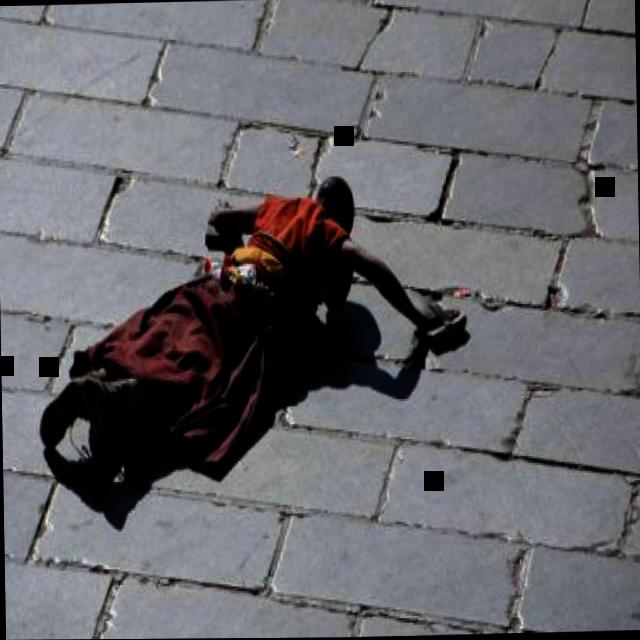Fall-Detected: (41, 158, 478, 499)
